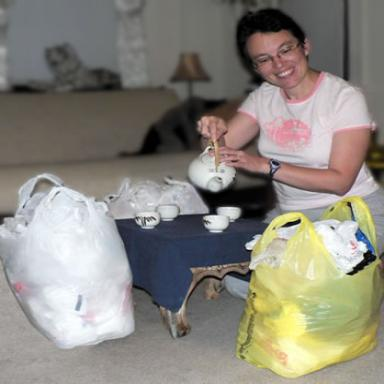plasticbag: (1, 177, 142, 343), (248, 210, 384, 376), (106, 168, 210, 216)
